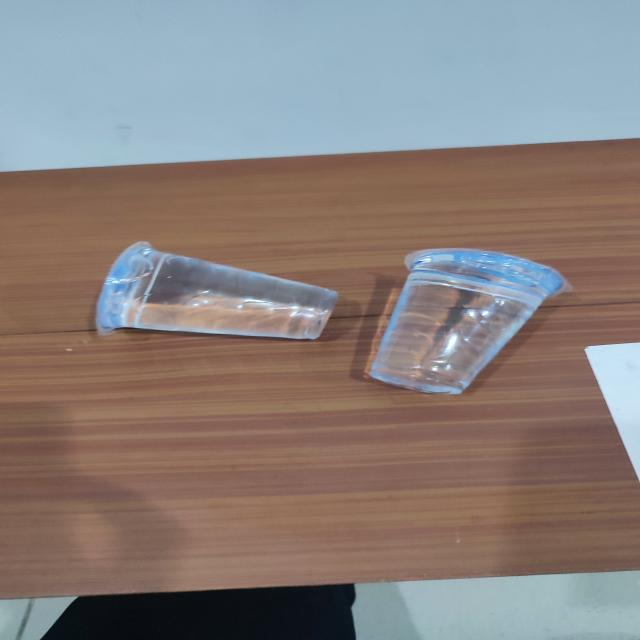air gelas: (350, 238, 564, 391), (85, 237, 352, 344)
